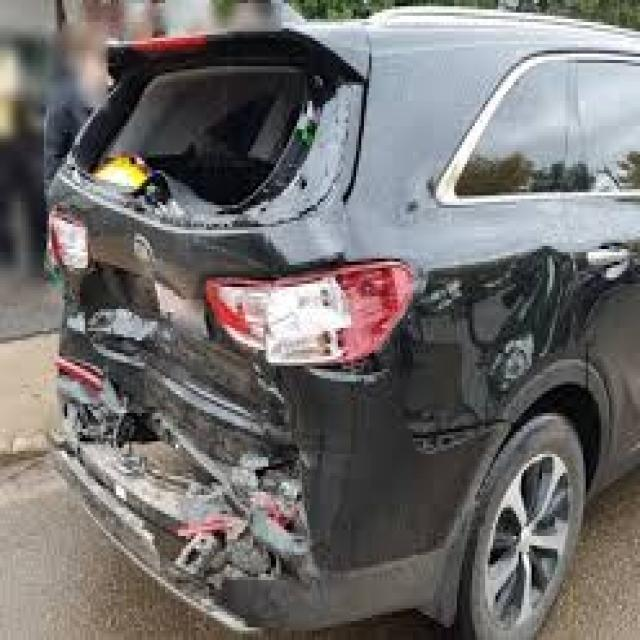damaged-trunk: (55, 39, 338, 452)
